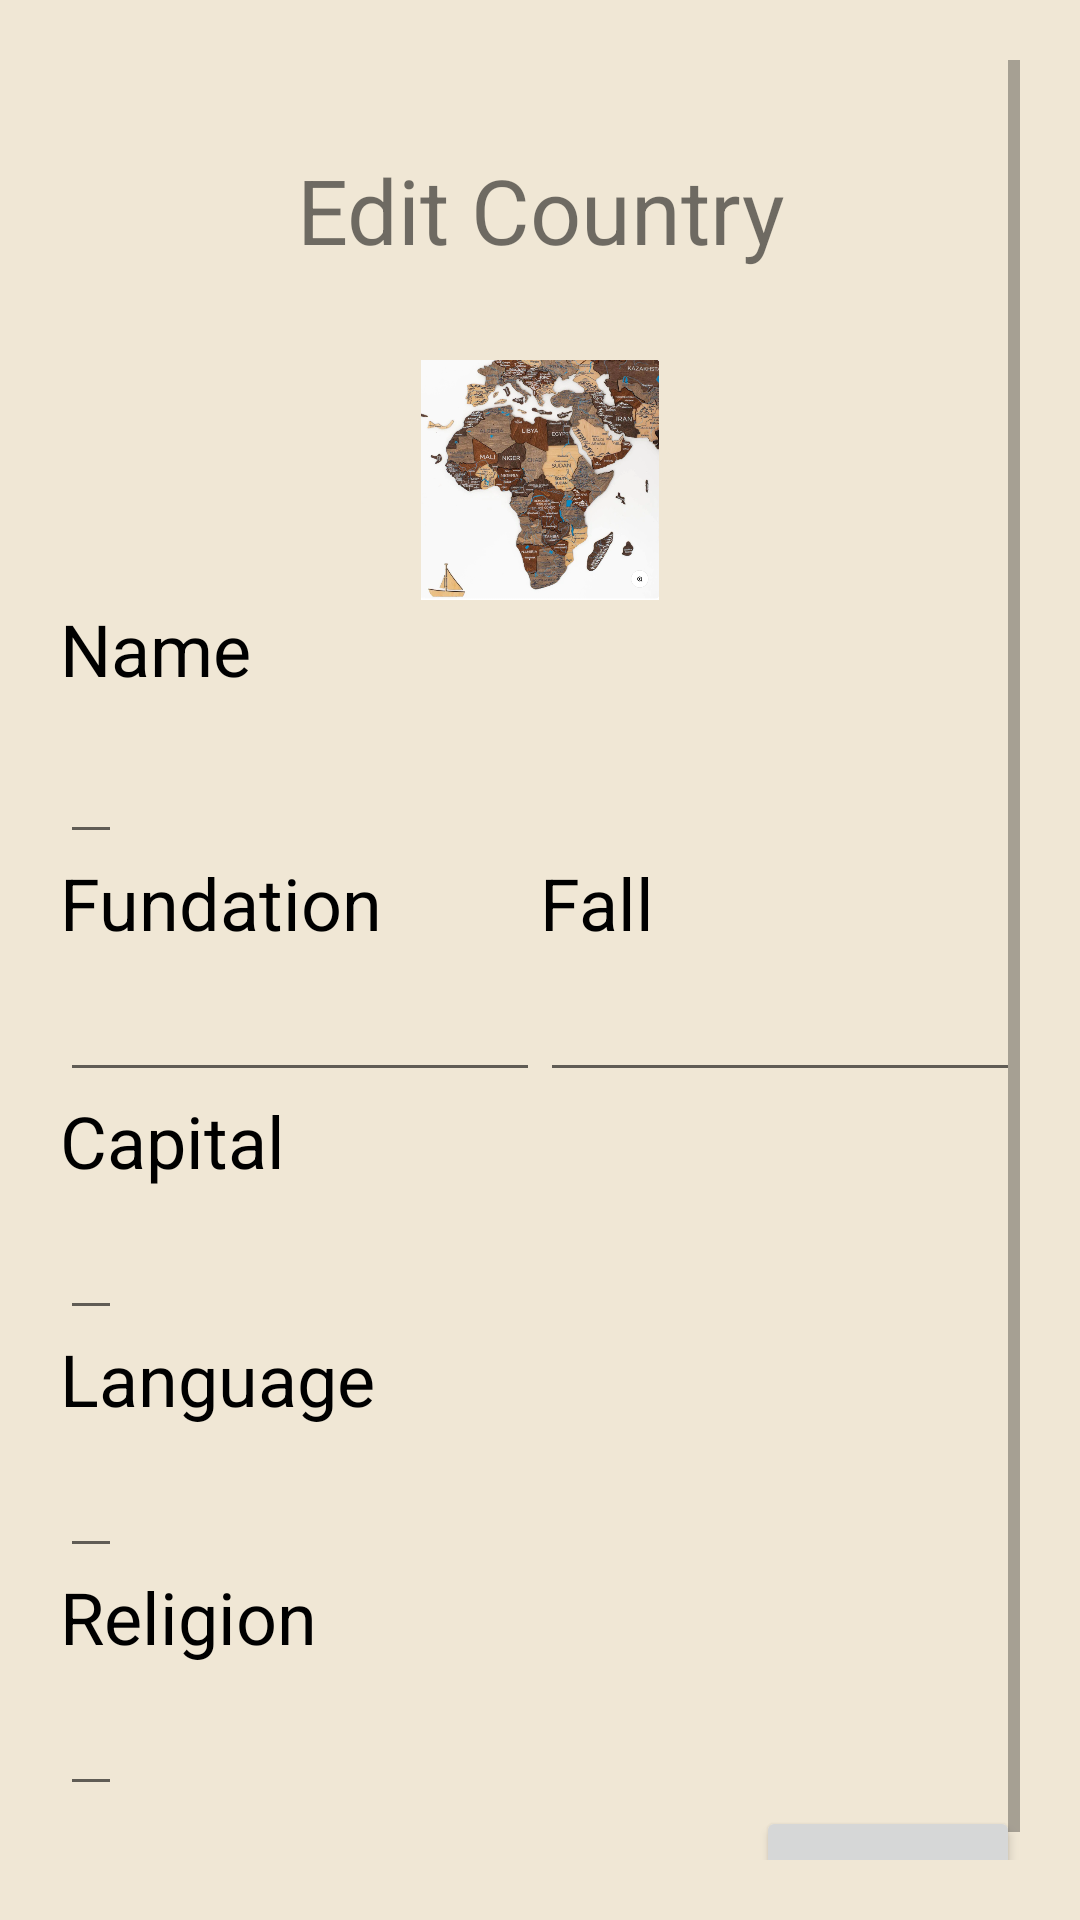

Point at icon controls on the screen. Image size 1080×1920, points as (x=x, y=y).
africa: (x=540, y=480)
